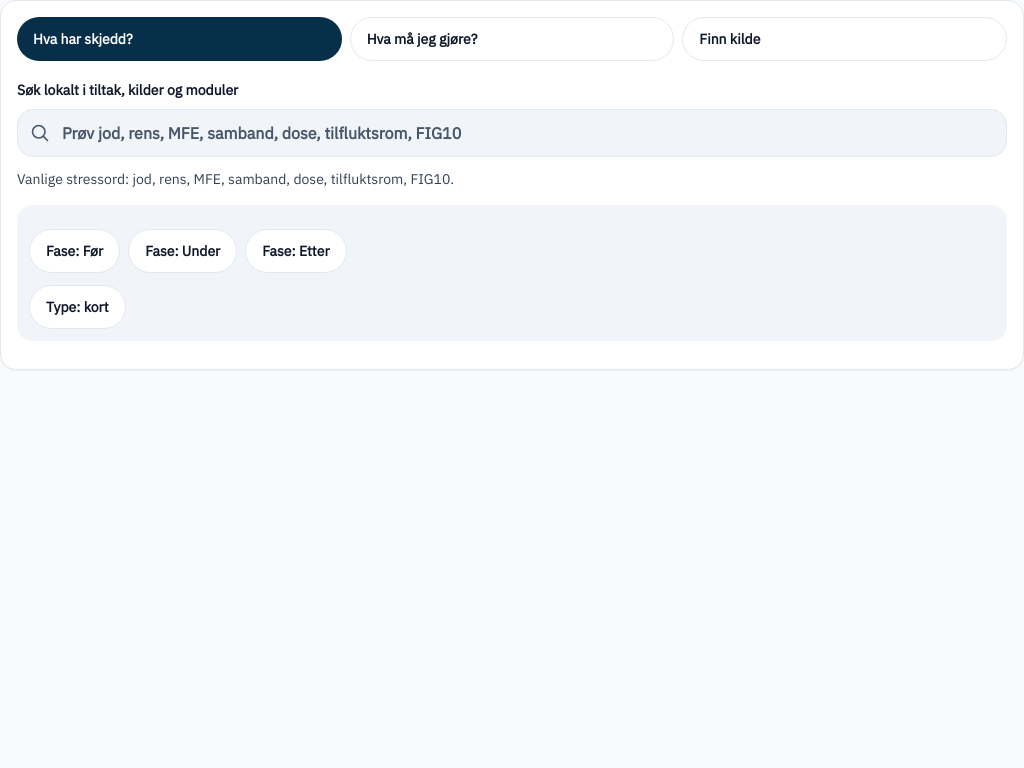
it: explains when filters hide search results and lets users reset filters
Type "pumpe" into the search field at (526, 133), box [58,111,994,155]
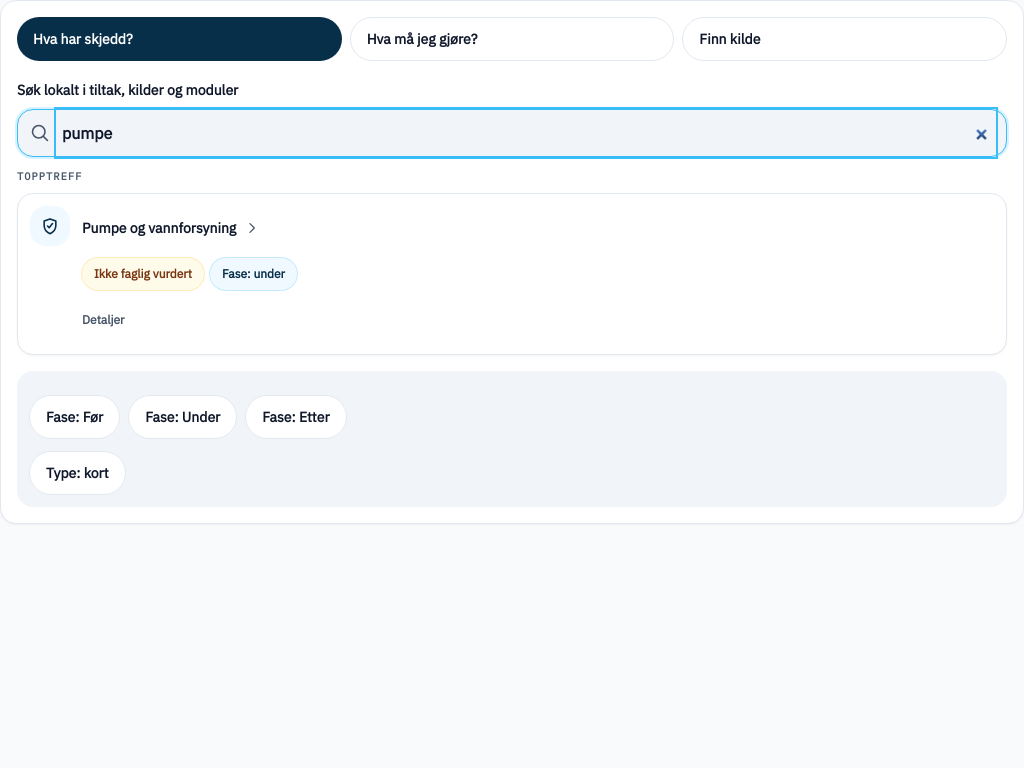
Expected: the link "Pumpe og vannforsyning" is shown, [82,219,260,237]
Click the button "Fase: Før" at (75, 417), box [29,395,120,439]
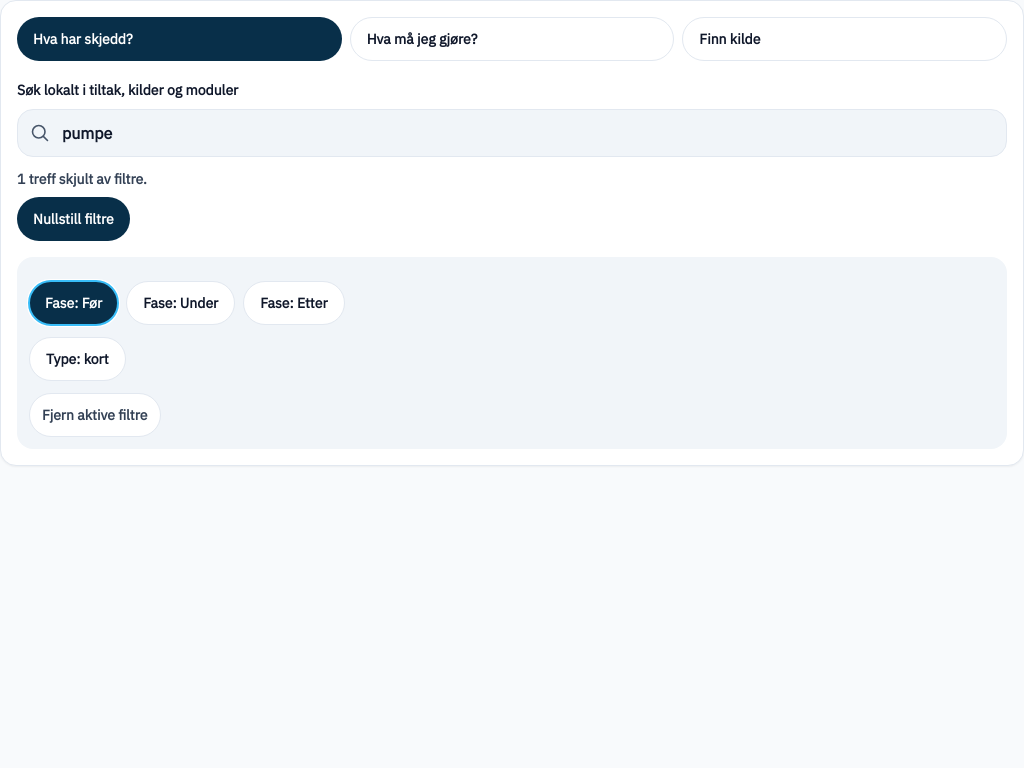
Expected: the text "1 treff skjult av filtre." is shown, [17,170,147,188]
Click the link "Nullstill filtre" at (73, 219), box [17,197,130,241]
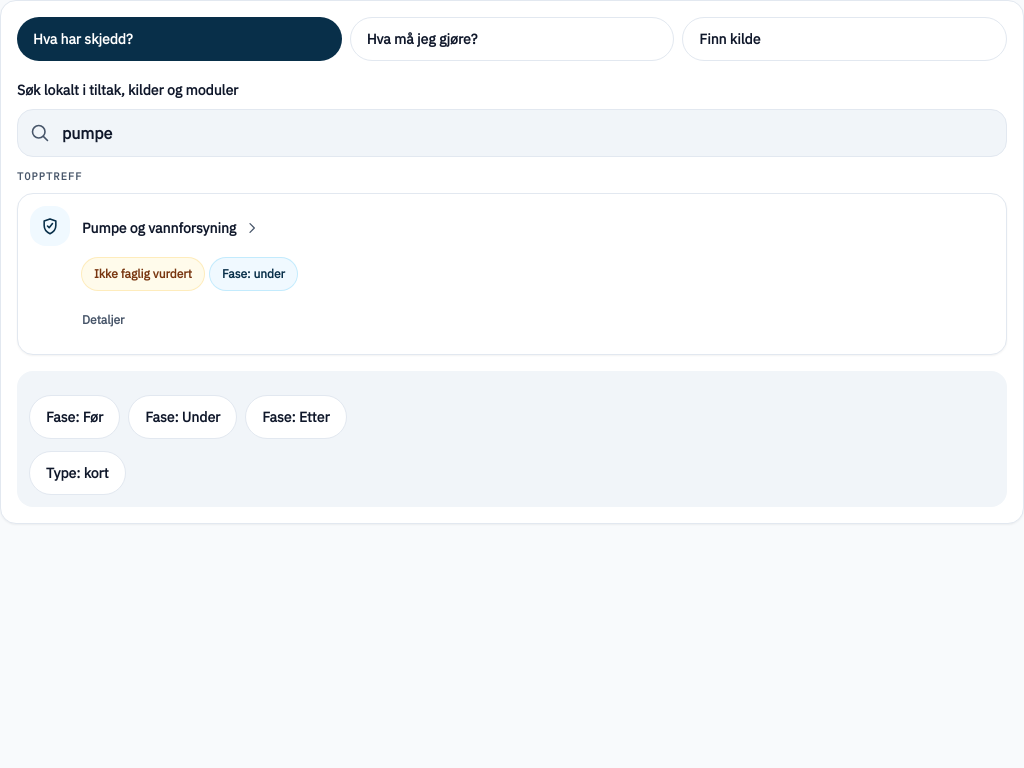
Expected: the link "Pumpe og vannforsyning" is shown, [82,219,260,237]
Expected: the text "treff skjult av filtre" is gone
